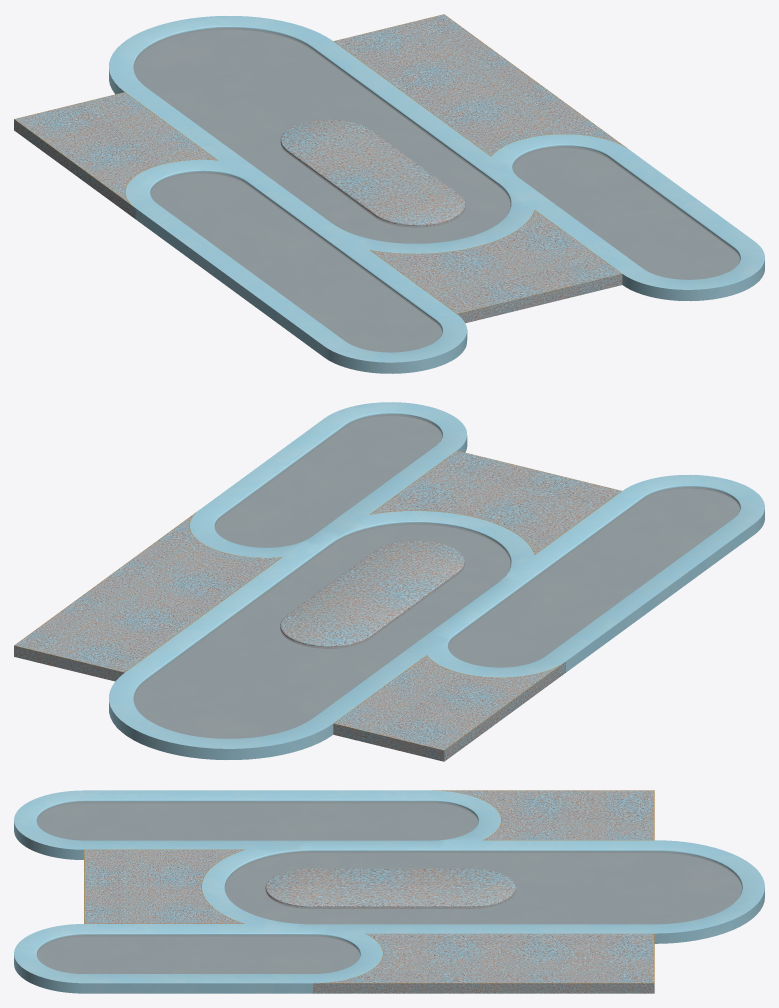
Rendered from platform-old.glb.
The picture shows the model from 3 angles, top to bottom: view 1: azimuth 30°, elevation 25°; view 2: azimuth 150°, elevation 25°; view 3: azimuth 270°, elevation 25°; orthographic projection. The views are drawn at different scales.
Parts seen in each view (by area): view 1: water_new, water_new.001, rings, base, water_new.005; view 2: water_new, water_new.001, base, rings, water_new.005; view 3: water_new, water_new.001, rings, base, water_new.005.
Part boxes in pixels (x1,y1,x2,y2): water_new: [133, 28, 739, 352]; water_new.001: [134, 30, 739, 351]; rings: [109, 15, 764, 373]; base: [14, 14, 626, 323]; water_new.005: [280, 119, 465, 227]; water_new: [133, 414, 739, 738]; water_new.001: [134, 416, 739, 738]; base: [14, 450, 621, 761]; rings: [109, 402, 764, 760]; water_new.005: [280, 540, 464, 648]; water_new: [37, 801, 741, 973]; water_new.001: [37, 803, 741, 973]; rings: [14, 790, 764, 993]; base: [84, 790, 654, 993]; water_new.005: [265, 868, 515, 908].
Bounding box in the file's own units: 4 × 0.1 × 6.58.
4 materials, 2 textured.
